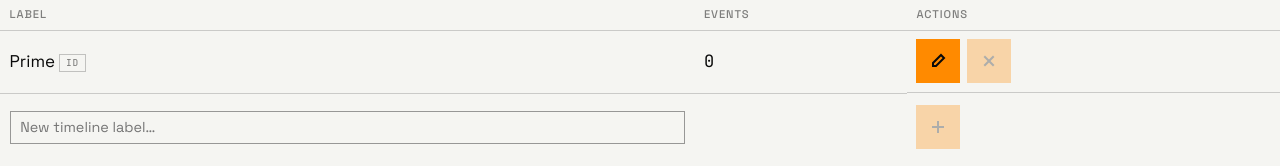
TimelineList — add-row label requirement › a filled-in label enables Add even with an existing timeline
Type "Backup" into the field with placeholder "New timeline label…".
click(347, 127); type("Backup")  # box x1=10 y1=111 x2=685 y2=144
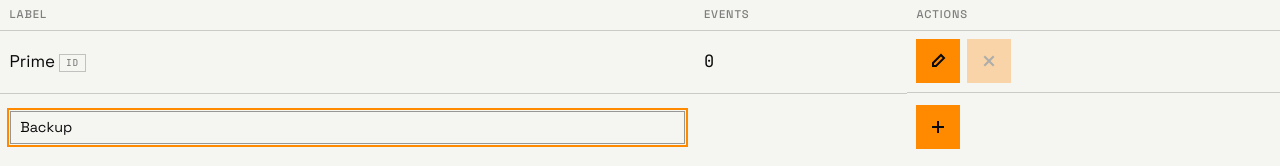
Check: the button named "Add timeline" is enabled, box x1=916 y1=105 x2=960 y2=149
